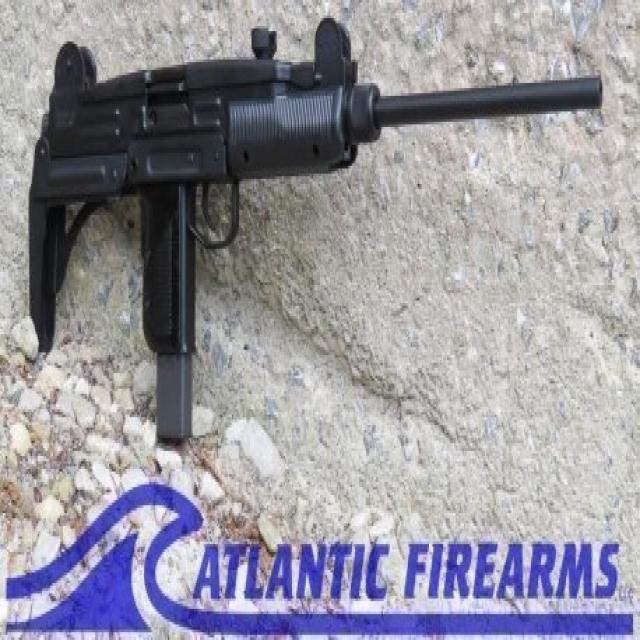SMG: (28, 18, 604, 448)
